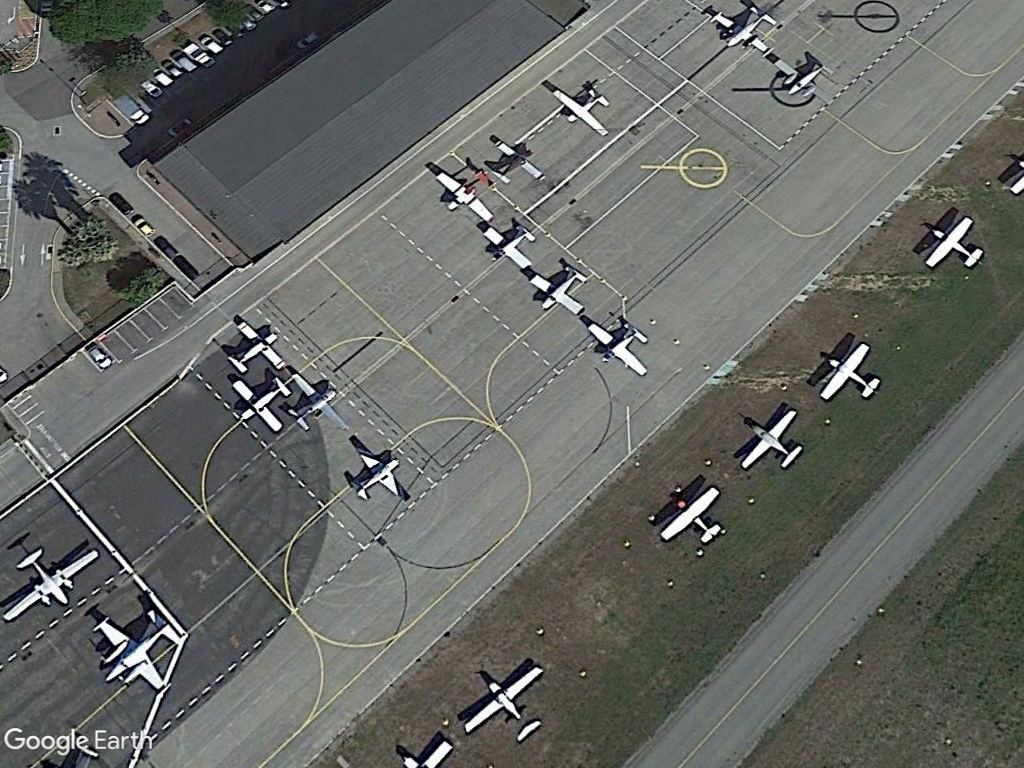trainer: (91, 604, 189, 693), (0, 544, 100, 624), (456, 660, 545, 743), (338, 430, 412, 508), (653, 485, 727, 549), (816, 339, 885, 407), (733, 407, 803, 472), (220, 320, 295, 378), (770, 54, 842, 113), (919, 209, 986, 272), (291, 368, 353, 436), (706, 0, 779, 55), (581, 322, 651, 378), (226, 378, 291, 435), (527, 263, 590, 321), (434, 168, 494, 225), (551, 84, 610, 140), (487, 137, 547, 185), (478, 226, 536, 272)
